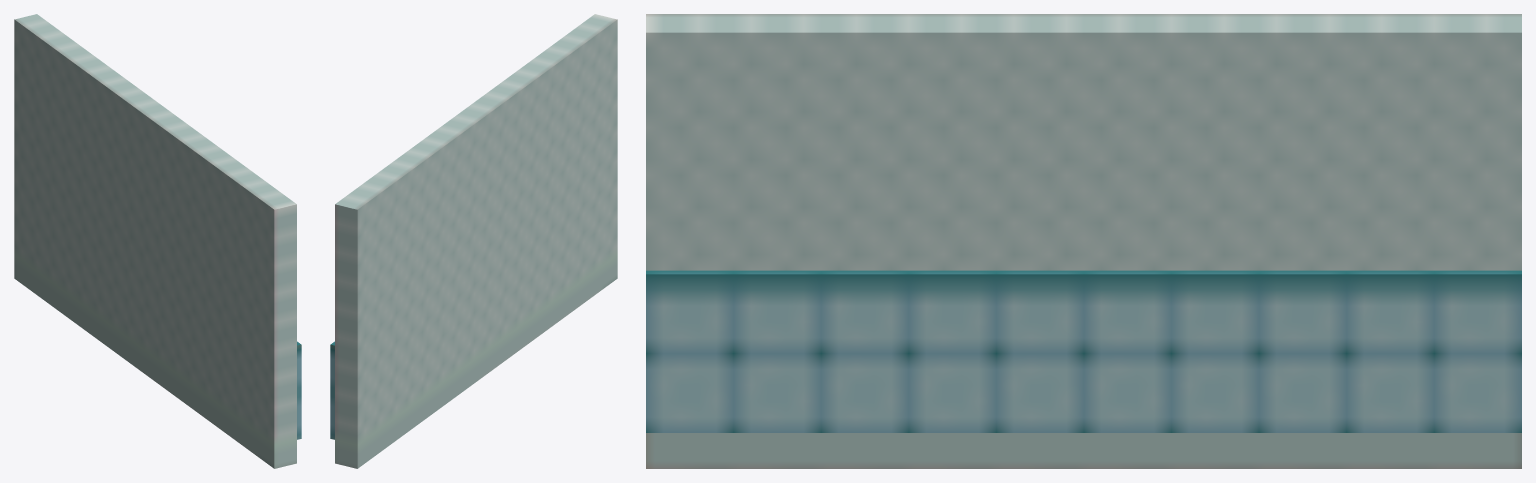
The model's file is WallpaperLightBlueWithTilesBack_00.fbx.
The picture shows the model from 3 angles, left to right: view 1: azimuth 30°, elevation 25°; view 2: azimuth 150°, elevation 25°; view 3: azimuth 270°, elevation 25°; orthographic projection. The views are drawn at different scales.
Parts seen in each view (by area): view 1: WallpaperLightBlueWithTilesBack_00; view 2: WallpaperLightBlueWithTilesBack_00; view 3: WallpaperLightBlueWithTilesBack_00.
Boxes of the visible parts, box(x1,y1,x2,y2) form: WallpaperLightBlueWithTilesBack_00: box(14, 14, 301, 468); WallpaperLightBlueWithTilesBack_00: box(330, 14, 617, 468); WallpaperLightBlueWithTilesBack_00: box(646, 14, 1521, 468).
Size of the model in its own units: 30 by 500 by 275.
1 material, 1 textured.
